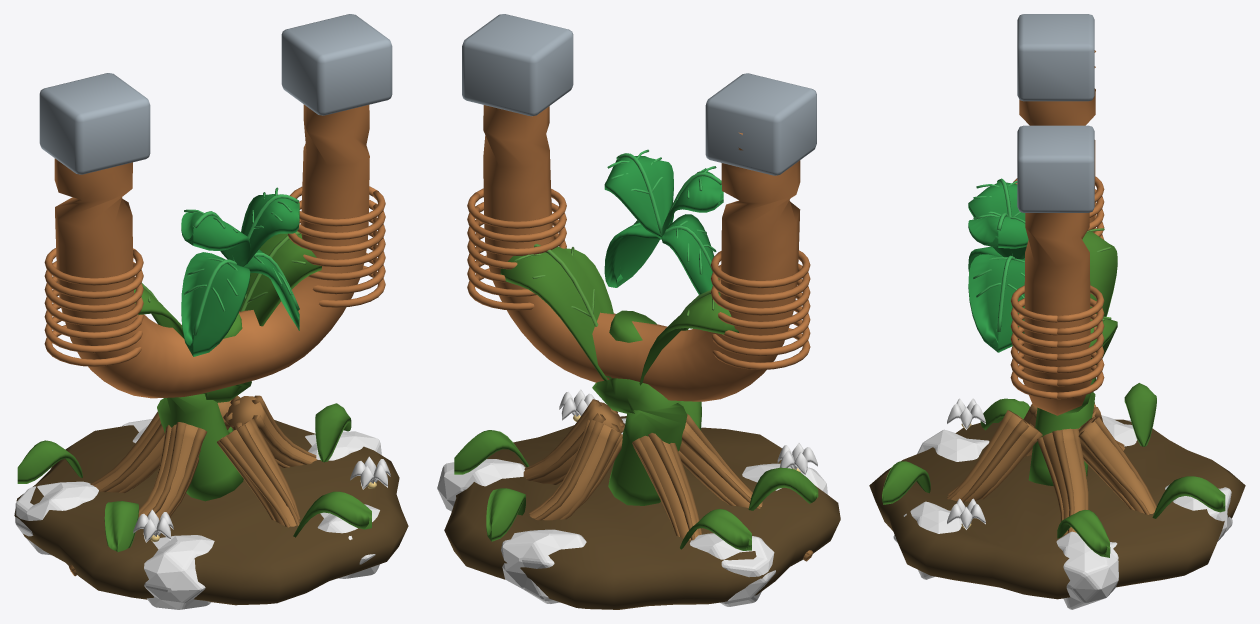
Rendered from magnet-2.fbx.
3 renders of one model, left to right at view 1: azimuth 30°, elevation 25°; view 2: azimuth 150°, elevation 25°; view 3: azimuth 270°, elevation 25°, orthographic. The views are drawn at different scales.
Parts seen in each view (by area): view 1: Barrel_Metal, magnet-2_Organic, magnet-2_Bark, Coils_Metal, Clover_PortalBamboo, Turret_PortalBamboo, magnet-2_Stone, magnet-2_PortalBamboo, magnet-2_Petal; view 2: Barrel_Metal, magnet-2_Organic, Turret_PortalBamboo, magnet-2_Bark, Coils_Metal, Clover_PortalBamboo, magnet-2_Stone, magnet-2_PortalBamboo, magnet-2_Petal; view 3: magnet-2_Organic, Barrel_Metal, magnet-2_Bark, Clover_PortalBamboo, magnet-2_Stone, Coils_Metal, magnet-2_PortalBamboo, Turret_PortalBamboo, magnet-2_Petal.
Boxes of the visible parts, x1=… form: Barrel_Metal: x1=39, y1=14, x2=392, y2=398; magnet-2_Organic: x1=14, y1=420, x2=408, y2=605; magnet-2_Bark: x1=69, y1=395, x2=316, y2=576; Coils_Metal: x1=44, y1=186, x2=385, y2=366; Clover_PortalBamboo: x1=181, y1=187, x2=299, y2=356; Turret_PortalBamboo: x1=134, y1=231, x2=321, y2=501; magnet-2_Stone: x1=15, y1=419, x2=381, y2=609; magnet-2_PortalBamboo: x1=17, y1=403, x2=371, y2=551; magnet-2_Petal: x1=133, y1=456, x2=390, y2=542; Barrel_Metal: x1=462, y1=14, x2=816, y2=401; magnet-2_Organic: x1=444, y1=415, x2=840, y2=609; Turret_PortalBamboo: x1=500, y1=244, x2=738, y2=505; magnet-2_Bark: x1=523, y1=399, x2=813, y2=561; Coils_Metal: x1=467, y1=188, x2=810, y2=369; Clover_PortalBamboo: x1=604, y1=149, x2=723, y2=294; magnet-2_Stone: x1=437, y1=418, x2=827, y2=606; magnet-2_PortalBamboo: x1=454, y1=401, x2=818, y2=550; magnet-2_Petal: x1=559, y1=389, x2=817, y2=475; magnet-2_Organic: x1=869, y1=419, x2=1245, y2=599; Barrel_Metal: x1=1017, y1=14, x2=1095, y2=415; magnet-2_Bark: x1=947, y1=402, x2=1156, y2=534; Clover_PortalBamboo: x1=968, y1=178, x2=1028, y2=352; magnet-2_Stone: x1=893, y1=415, x2=1232, y2=609; Coils_Metal: x1=1010, y1=176, x2=1104, y2=399; magnet-2_PortalBamboo: x1=882, y1=383, x2=1225, y2=557; Turret_PortalBamboo: x1=1028, y1=228, x2=1117, y2=486; magnet-2_Petal: x1=947, y1=398, x2=985, y2=529.
Size of the model in its own units: 82.25 by 111 by 82.7.
